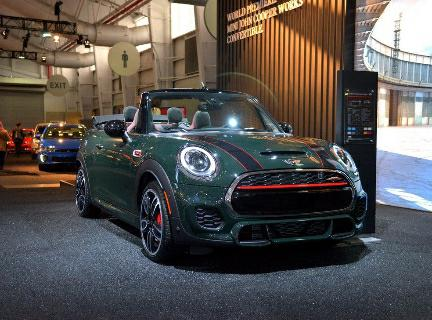MINI-JCW: (76, 96, 372, 270)
